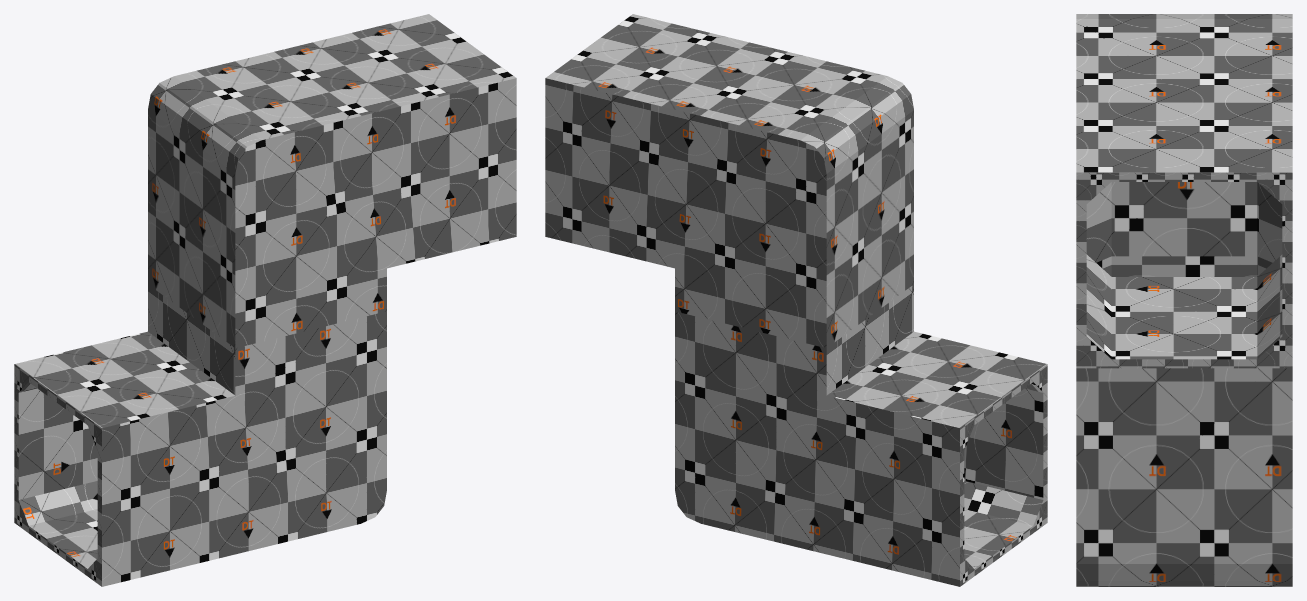
File: Export_boofer 4.FBX
3 views of the same model, side by side, from view 1: azimuth 30°, elevation 25°; view 2: azimuth 150°, elevation 25°; view 3: azimuth 270°, elevation 25° (orthographic). The views are drawn at different scales.
Visible parts, largest first — view 1: Object36170; view 2: Object36170; view 3: Object36170.
Boxes of the visible parts, x1,y1,x2,y2 form: Object36170: (14,14,516,586); Object36170: (545,14,1047,586); Object36170: (1076,14,1292,586).
Size of the model in its own units: 116 by 109 by 42.5.
1 material, 1 textured.
